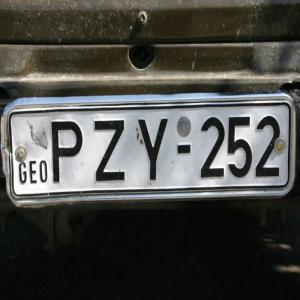Vehicle-registration-plate: (1, 94, 299, 212)
